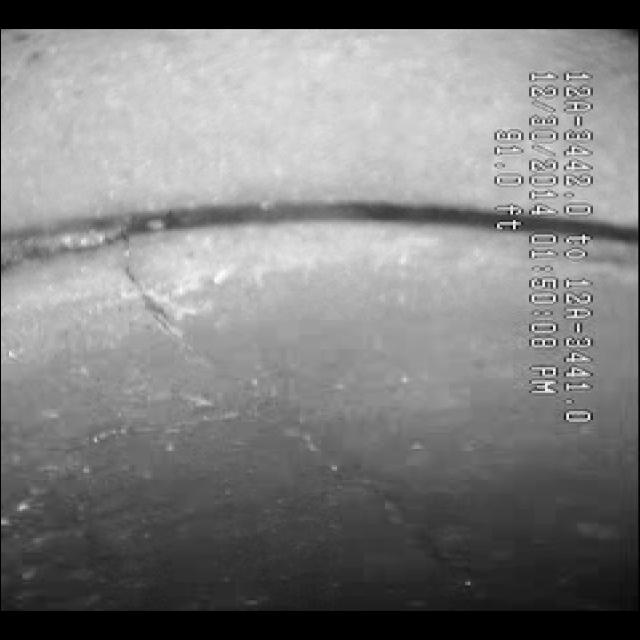Crack: (106, 299, 454, 491)
